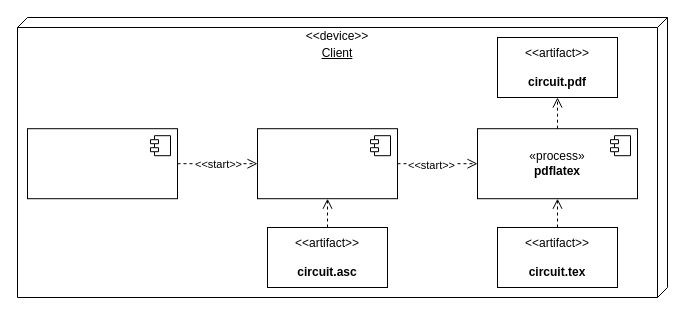
Some shapes in this 685 by 315 pixel diagram are drawn without their labels. Here are the shapes that lost their labels. From the top down, the centre of each, then its label:
At pixel 102 163: "«process» UI ltspice2circuitikz".
At pixel 327 163: "«process» ltspice2circuitikz.jar".
